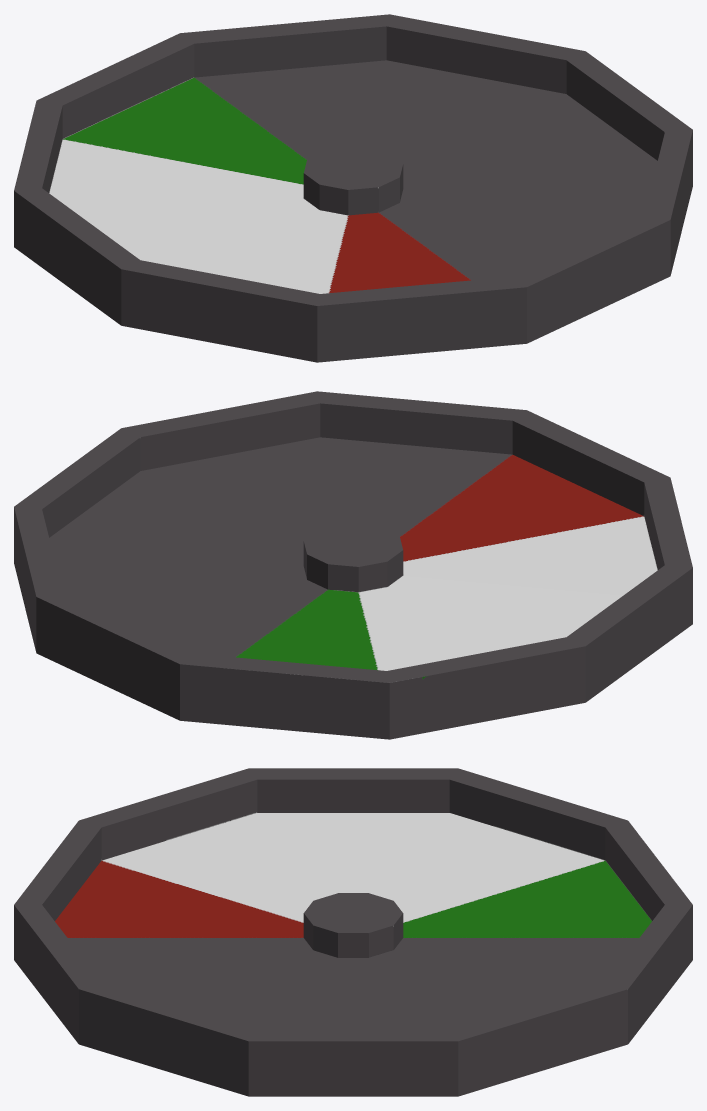
File: DialBaseBattery.fbx
The picture shows the model from 3 angles, top to bottom: view 1: azimuth 30°, elevation 25°; view 2: azimuth 150°, elevation 25°; view 3: azimuth 270°, elevation 25°; orthographic projection. The views are drawn at different scales.
Parts seen in each view (by area): view 1: Cylinder; view 2: Cylinder; view 3: Cylinder.
Part boxes in pixels (x1,y1,x2,y2): Cylinder: (14, 14, 692, 362); Cylinder: (14, 391, 692, 739); Cylinder: (14, 768, 692, 1096).
Bounding box in the file's own units: 207 × 19.59 × 218.
Materials: 1 (1 with a texture image).
